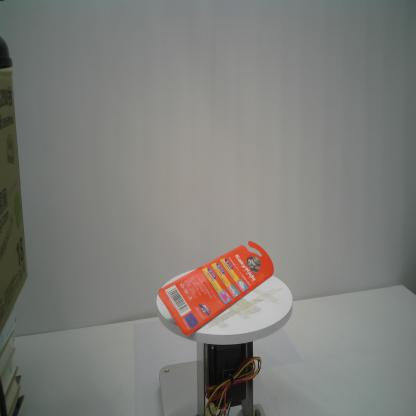Personal Hygiene: (158, 241, 274, 335)
